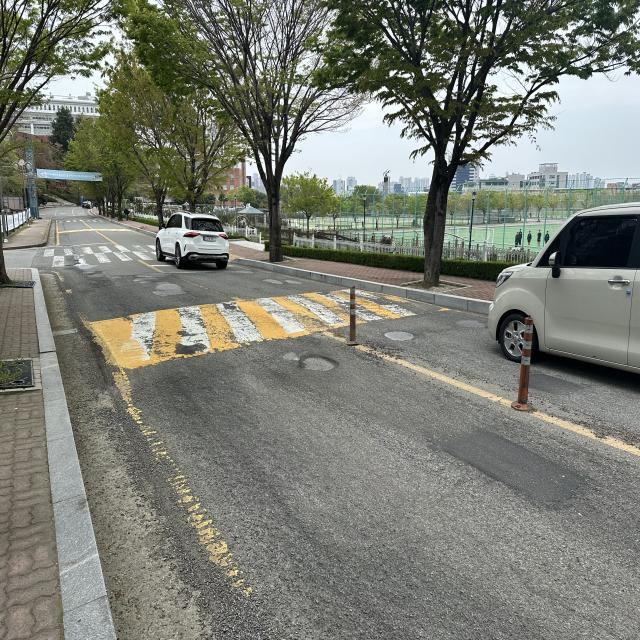pothole: (298, 348, 339, 378)
